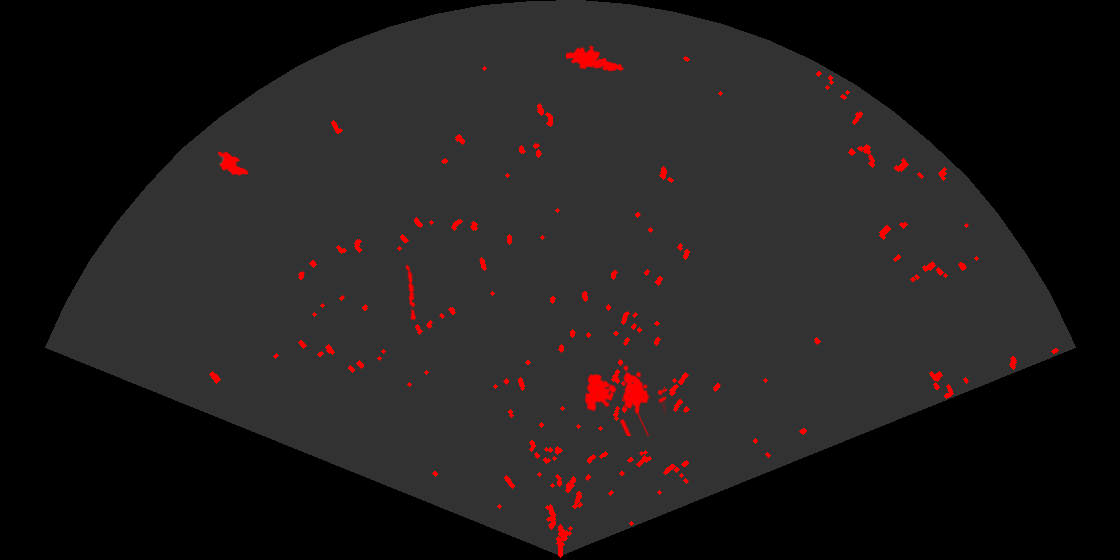AUV: (216, 150, 250, 177)
cage: (583, 363, 666, 436)
chain: (404, 263, 418, 320)
frogman: (566, 43, 624, 73)
